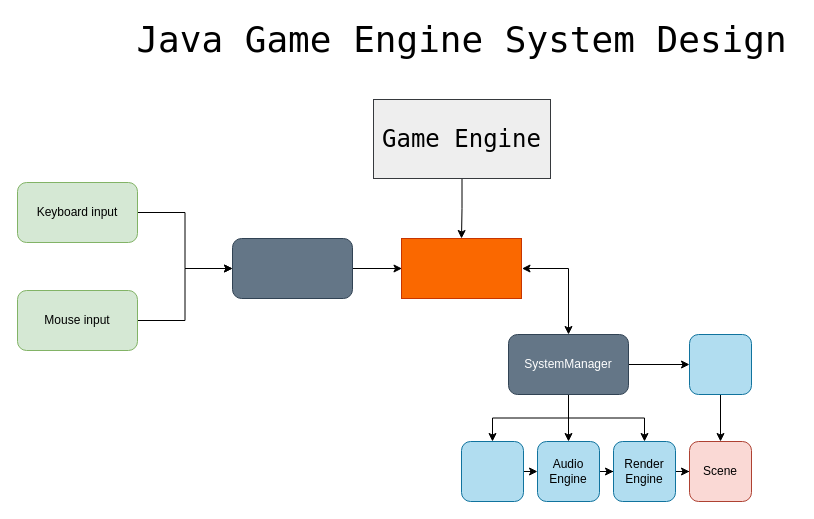
Some shapes in this 814 by 519 pixel diagram are drawn without their labels. Here are the shapes that lost their labels. From the top down, the centre of each, then its label:
At [292,268]: "InputManager".
At [461,268]: "Core".
At [720,364]: "Scene Manager".
At [492,471]: "Physics Engine".
